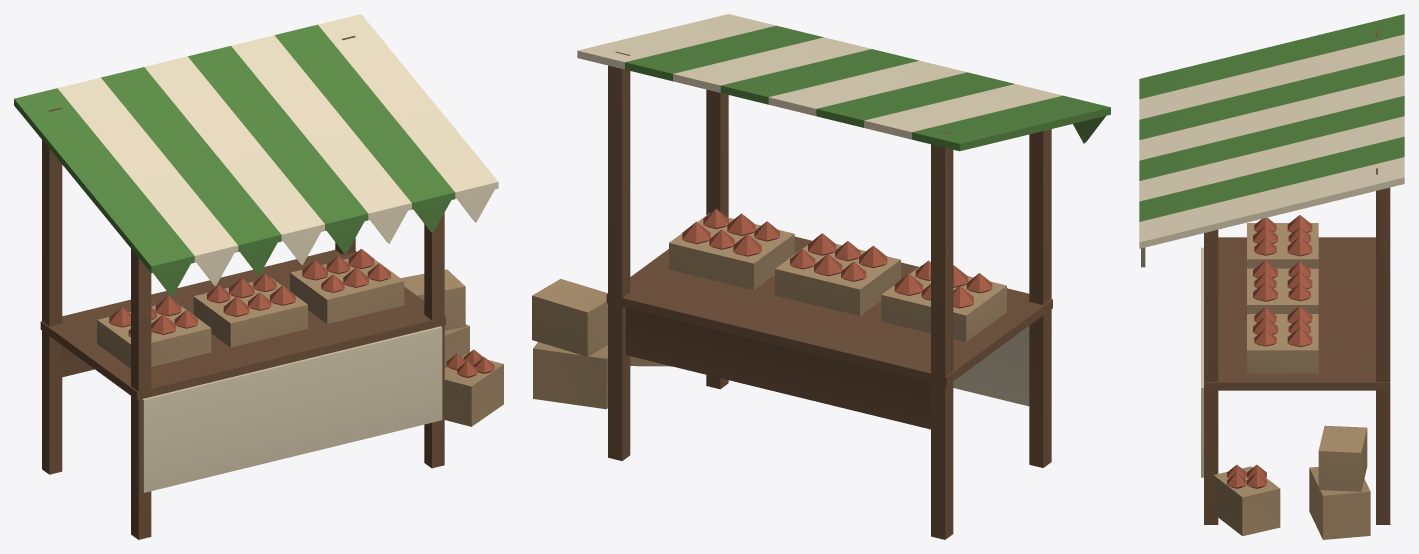
File: stall_1.glb
3 views of the same model, side by side, from view 1: azimuth 30°, elevation 25°; view 2: azimuth 150°, elevation 25°; view 3: azimuth 270°, elevation 25° (orthographic). The views are drawn at different scales.
Parts seen in each view (by area): view 1: stall_1; view 2: stall_1; view 3: stall_1.
Part boxes in pixels (x1,y1,x2,y2): stall_1: (14, 14, 503, 539); stall_1: (532, 14, 1110, 539); stall_1: (1139, 14, 1404, 539).
Size of the model in its own units: 3.22 by 2.75 by 1.85.
